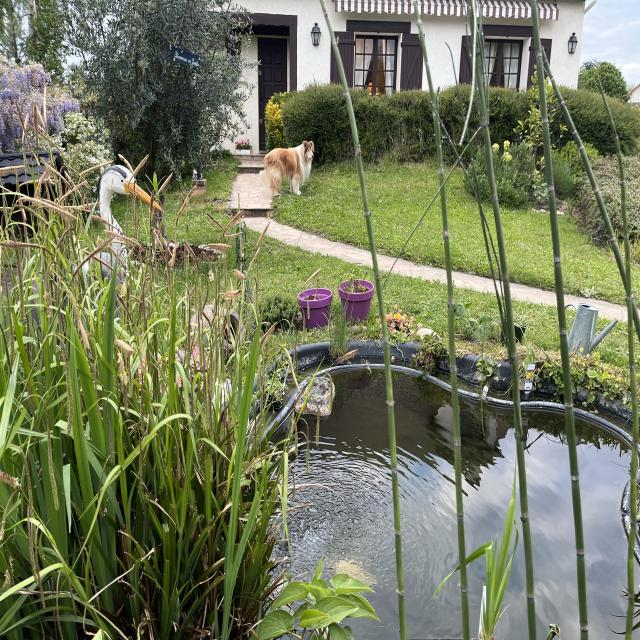Dog: (250, 132, 322, 209)
Heron: (64, 149, 165, 324)
